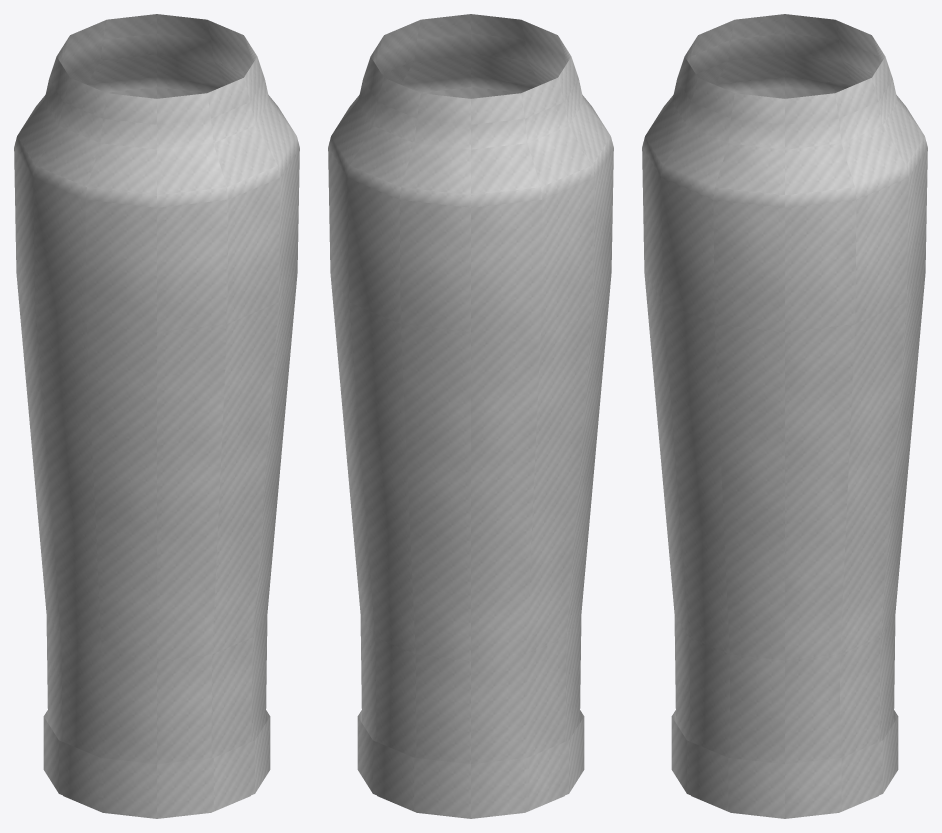
File: pants_breeches_leg_l.glb
3 views of the same model, side by side, from view 1: azimuth 30°, elevation 25°; view 2: azimuth 150°, elevation 25°; view 3: azimuth 270°, elevation 25° (orthographic).
Parts seen in each view (by area): view 1: pants_breeches_leg_l; view 2: pants_breeches_leg_l; view 3: pants_breeches_leg_l.
Part boxes in pixels (left/top/right/bottom): pants_breeches_leg_l: left=14, top=14, right=299, bottom=818; pants_breeches_leg_l: left=328, top=14, right=613, bottom=818; pants_breeches_leg_l: left=642, top=14, right=927, bottom=818.
Size of the model in its own units: 0.2277 by 0.63 by 0.2277.
1 material, 1 textured.
